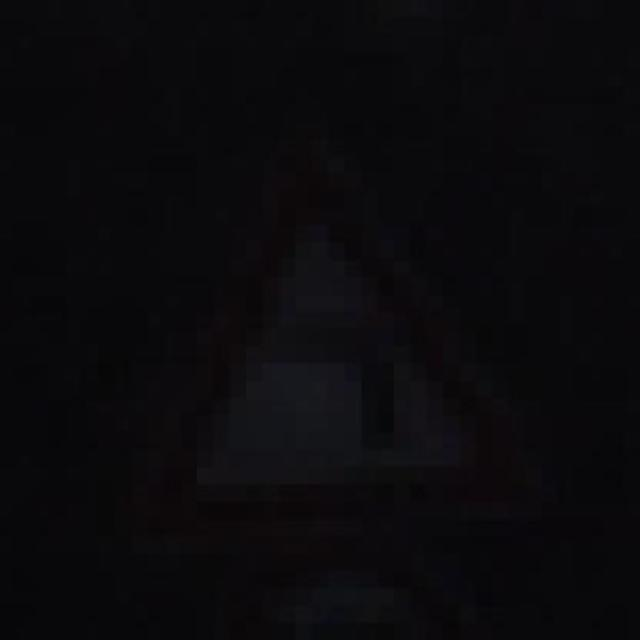Dangerous Left Curve Ahead: (147, 138, 525, 554)
